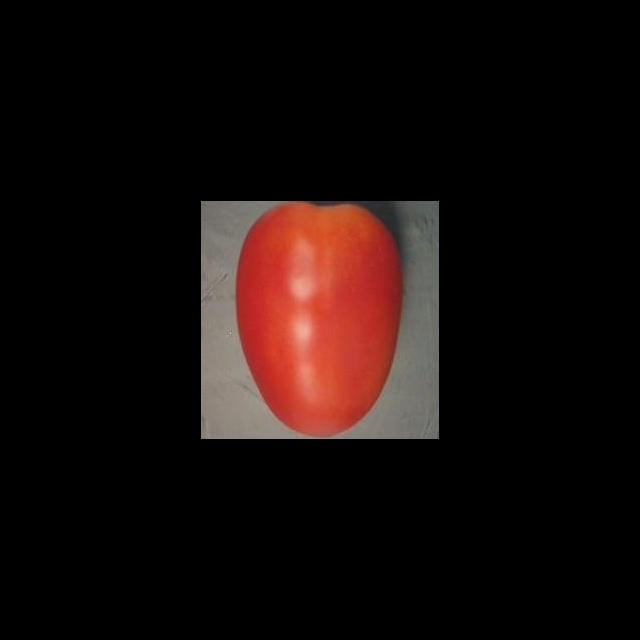tomato: (230, 202, 407, 439)
